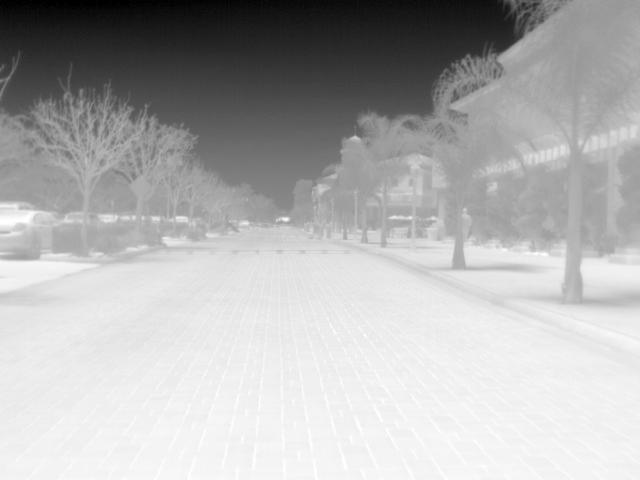car: (0, 210, 60, 260), (0, 200, 33, 211), (60, 211, 82, 226)
person: (461, 206, 473, 244)
